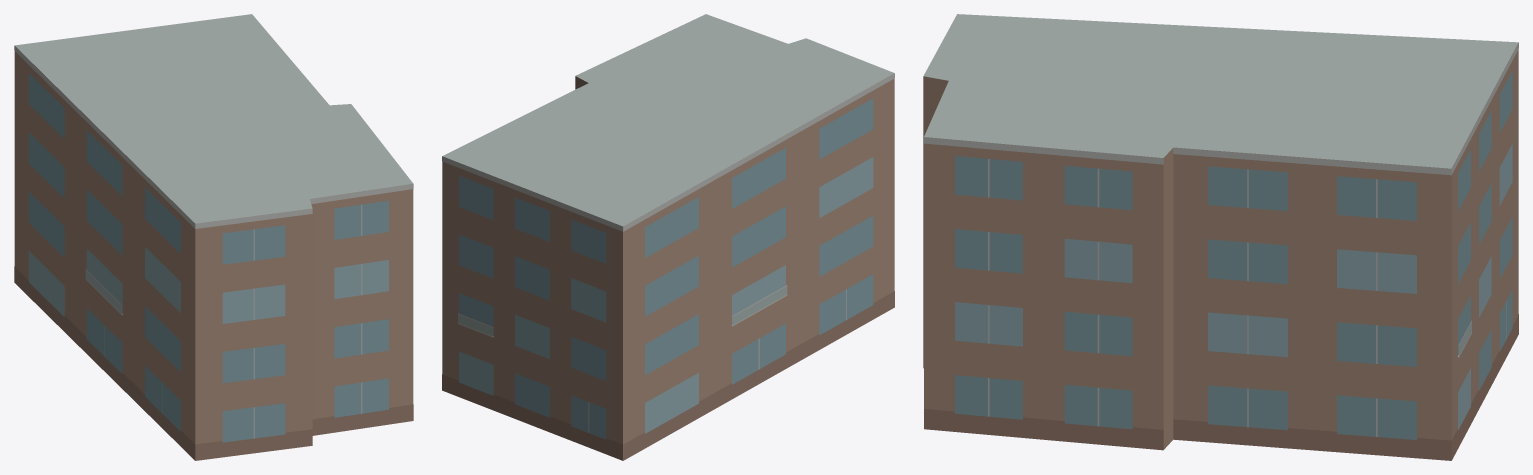
The model's file is survey-upis-32620667.glb.
3 renders of one model, left to right at view 1: azimuth 30°, elevation 25°; view 2: azimuth 150°, elevation 25°; view 3: azimuth 270°, elevation 25°, orthographic. The views are drawn at different scales.
Parts seen in each view (by area): view 1: survey-upis-32620667.tmp; view 2: survey-upis-32620667.tmp; view 3: survey-upis-32620667.tmp.
Boxes of the visible parts, box(x1,y1,x2,y2) form: survey-upis-32620667.tmp: box(14, 14, 413, 460); survey-upis-32620667.tmp: box(442, 14, 894, 460); survey-upis-32620667.tmp: box(923, 14, 1518, 460).
Bounding box in the file's own units: 12.39 × 10.9 × 20.14.
